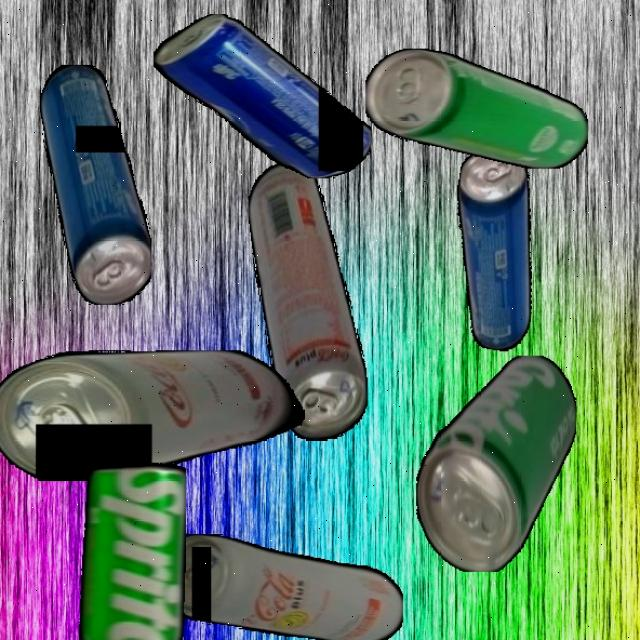debris: (0, 349, 312, 481), (152, 14, 371, 178), (415, 354, 576, 572), (248, 151, 368, 440), (431, 140, 559, 354), (39, 64, 151, 305), (366, 48, 588, 168), (157, 533, 403, 640), (44, 461, 185, 640)
